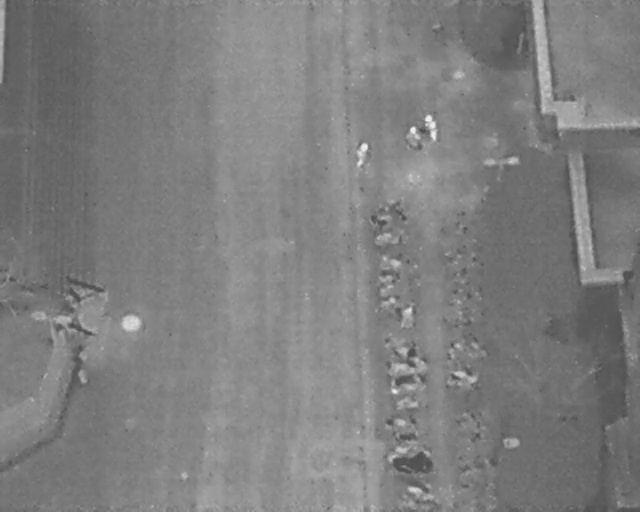Bicycle: (365, 194, 408, 229), (384, 348, 430, 378), (390, 446, 436, 474), (387, 369, 429, 396), (444, 367, 480, 389), (401, 478, 436, 500), (392, 390, 424, 414), (370, 229, 409, 247), (375, 290, 405, 313), (448, 332, 479, 353), (454, 405, 485, 426), (387, 338, 418, 357), (379, 250, 405, 270), (373, 276, 398, 296), (383, 414, 417, 428), (392, 429, 421, 444), (400, 303, 416, 329), (375, 267, 401, 282)
Person: (349, 138, 373, 171), (421, 112, 442, 142), (405, 123, 424, 152)
